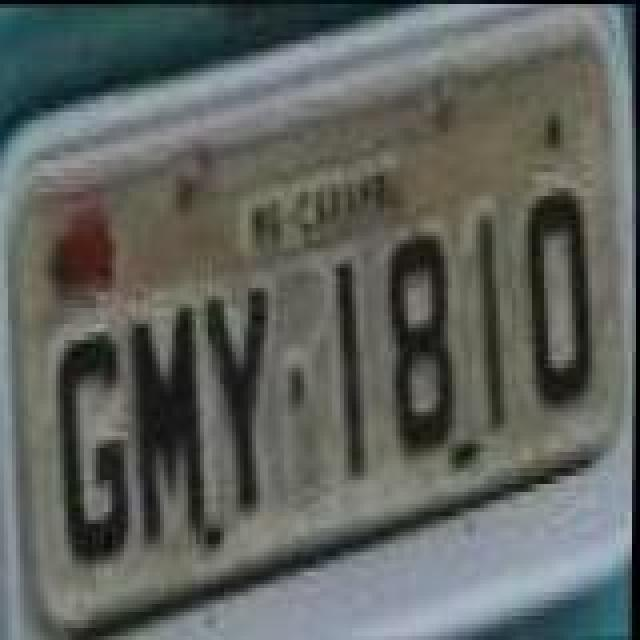1: (330, 258, 374, 482), (472, 206, 512, 430)
8: (380, 224, 460, 456)
G: (50, 328, 134, 568)
M: (128, 310, 212, 546)
O: (522, 184, 598, 408)
Y: (200, 288, 276, 520)
